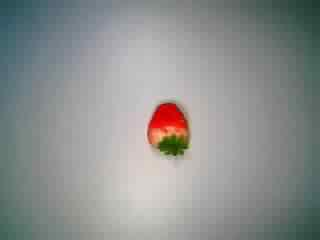strawberry: (138, 101, 206, 165)
